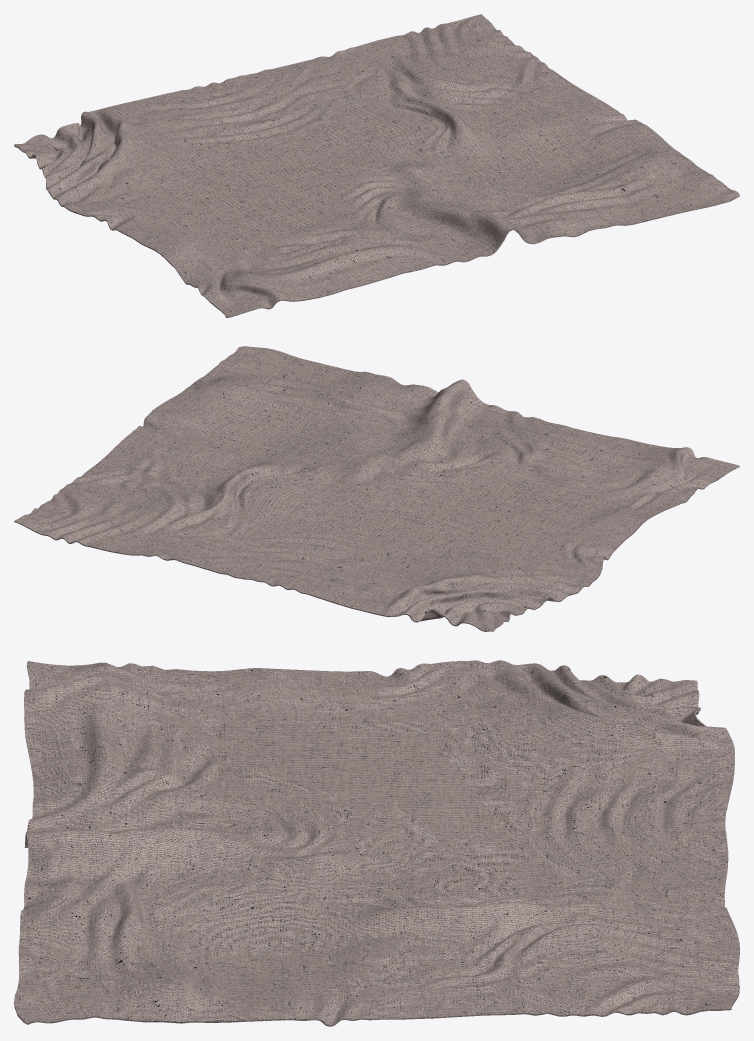
Rendered from SM_His_Sal_Cloth_Various_DetailLevels_Cloth_Medium.fbx.
3 renders of one model, top to bottom at view 1: azimuth 30°, elevation 25°; view 2: azimuth 150°, elevation 25°; view 3: azimuth 270°, elevation 25°, orthographic. The views are drawn at different scales.
Visible parts, largest first — view 1: SM_His_Sal_Cloth_Various_DetailLevels_Cloth_Medium_LOD0; view 2: SM_His_Sal_Cloth_Various_DetailLevels_Cloth_Medium_LOD0; view 3: SM_His_Sal_Cloth_Various_DetailLevels_Cloth_Medium_LOD0.
Part boxes in pixels (x1,y1,x2,y2): SM_His_Sal_Cloth_Various_DetailLevels_Cloth_Medium_LOD0: (14,14,739,317); SM_His_Sal_Cloth_Various_DetailLevels_Cloth_Medium_LOD0: (14,346,739,631); SM_His_Sal_Cloth_Various_DetailLevels_Cloth_Medium_LOD0: (14,660,739,1026).
Size of the model in its own units: 102 by 86.33 by 5.67.
